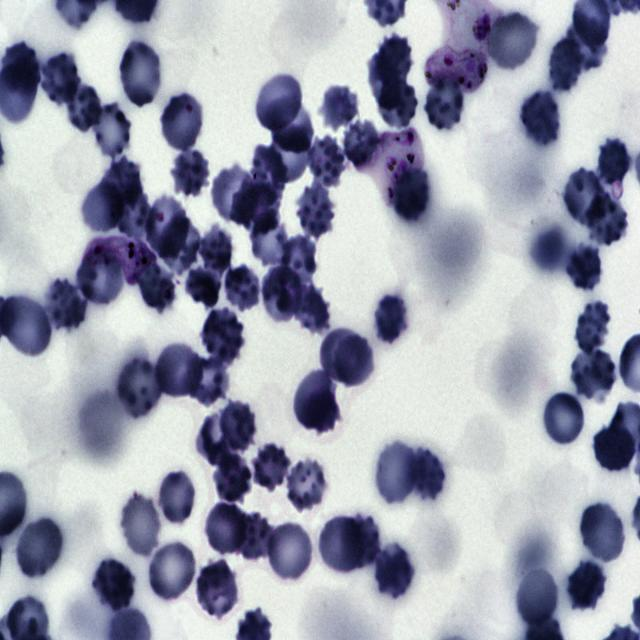red blood cell: (145, 538, 199, 604), (484, 10, 538, 74), (114, 354, 166, 420), (4, 292, 54, 359), (118, 38, 164, 109), (14, 516, 65, 580), (252, 72, 304, 134), (578, 500, 628, 564), (264, 520, 314, 584), (317, 515, 368, 577), (122, 487, 164, 560), (374, 441, 421, 506), (158, 91, 206, 154), (514, 564, 560, 629), (210, 164, 258, 226), (76, 246, 124, 308), (292, 369, 338, 433), (154, 340, 202, 401), (193, 560, 240, 622), (422, 72, 468, 133), (562, 168, 610, 226), (259, 264, 304, 325), (200, 307, 247, 365), (518, 89, 564, 148), (90, 100, 134, 161), (90, 556, 137, 613), (541, 390, 587, 448), (372, 540, 417, 599), (230, 181, 280, 234), (146, 195, 188, 258), (160, 213, 201, 276), (266, 125, 310, 183), (204, 501, 250, 556), (570, 346, 616, 401), (586, 192, 630, 248), (111, 184, 155, 240), (564, 14, 608, 70), (295, 183, 338, 240), (44, 276, 87, 333), (250, 212, 292, 270), (286, 454, 327, 513), (39, 51, 82, 107), (269, 100, 315, 152), (320, 328, 365, 381), (249, 144, 288, 205), (291, 279, 331, 338), (211, 449, 253, 505), (81, 180, 125, 233), (341, 513, 381, 571), (306, 133, 348, 188), (156, 470, 197, 526), (169, 147, 212, 200), (593, 421, 636, 474), (566, 558, 608, 612), (574, 300, 614, 356), (100, 155, 140, 211), (334, 334, 375, 388), (319, 84, 361, 136), (196, 224, 236, 278), (233, 511, 276, 560), (219, 400, 258, 454), (199, 414, 238, 468), (368, 50, 402, 111), (2, 39, 39, 95), (188, 357, 230, 406), (253, 438, 291, 492), (392, 168, 430, 222), (410, 447, 447, 502), (375, 32, 414, 84), (548, 33, 584, 89), (342, 120, 380, 173), (595, 136, 632, 190), (280, 234, 316, 287), (565, 243, 605, 290), (66, 81, 102, 133), (378, 82, 418, 126), (138, 266, 178, 310), (375, 292, 407, 345), (184, 267, 222, 307), (226, 266, 260, 310)
trophozoite: (357, 127, 423, 206), (434, 0, 503, 56), (82, 236, 158, 286), (424, 46, 488, 94)
